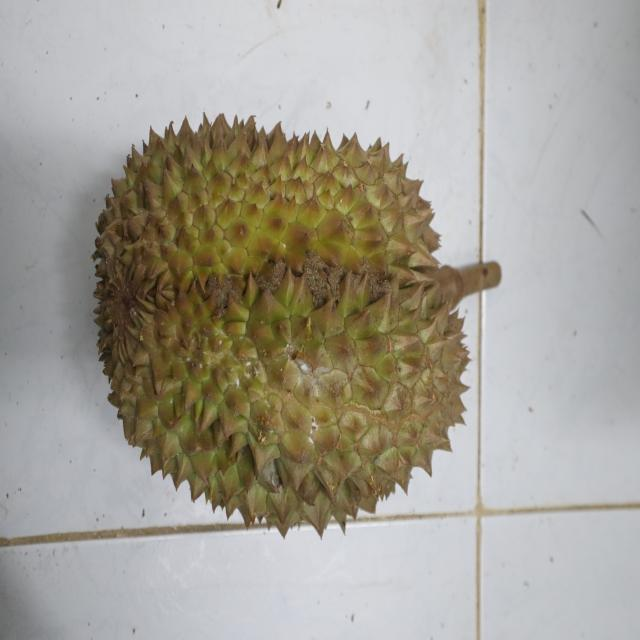mature: (91, 111, 473, 544)
